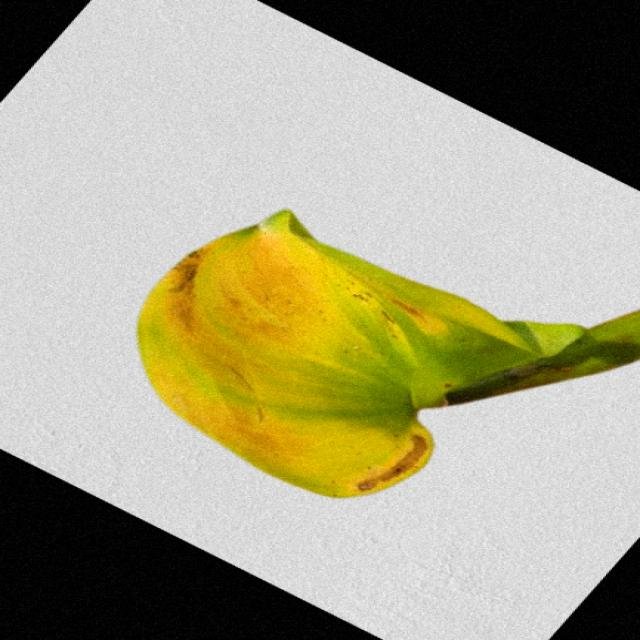daun berpenyakit kuning: (139, 212, 637, 498)
